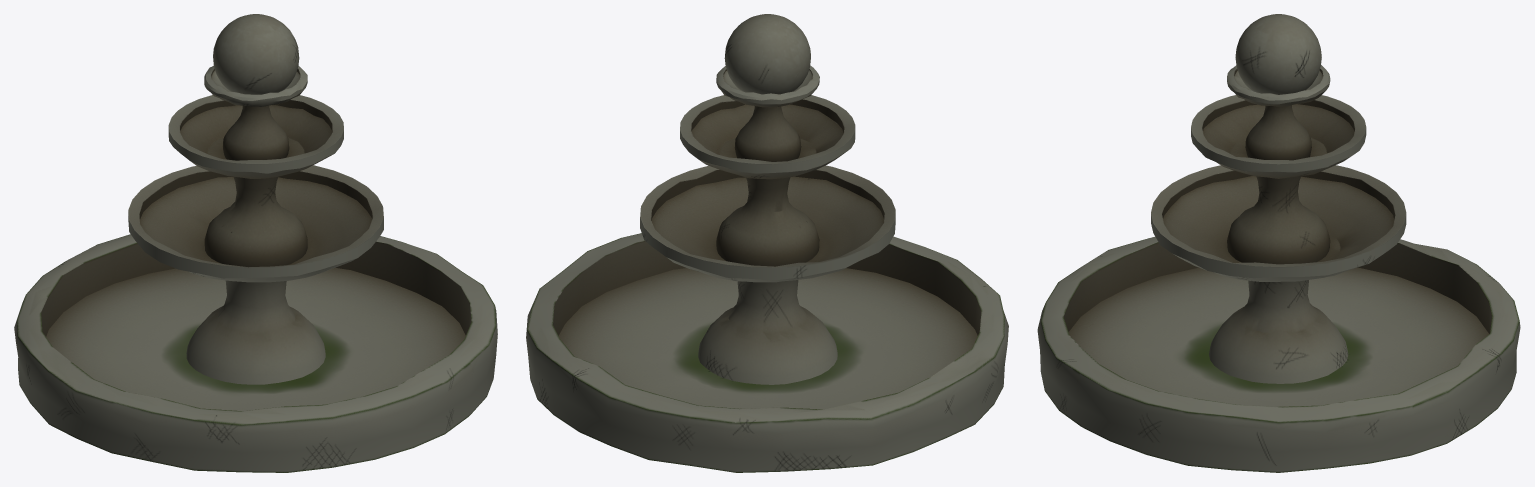
The model's file is Fountain.fbx.
The picture shows the model from 3 angles, left to right: view 1: azimuth 30°, elevation 25°; view 2: azimuth 150°, elevation 25°; view 3: azimuth 270°, elevation 25°; orthographic projection.
Visible parts, largest first — view 1: Fountain; view 2: Fountain; view 3: Fountain.
Boxes of the visible parts, x1,y1,x2,y2 form: Fountain: [14, 14, 497, 472]; Fountain: [526, 14, 1008, 472]; Fountain: [1037, 14, 1520, 472].
Bounding box in the file's own units: 446 × 363 × 446.
